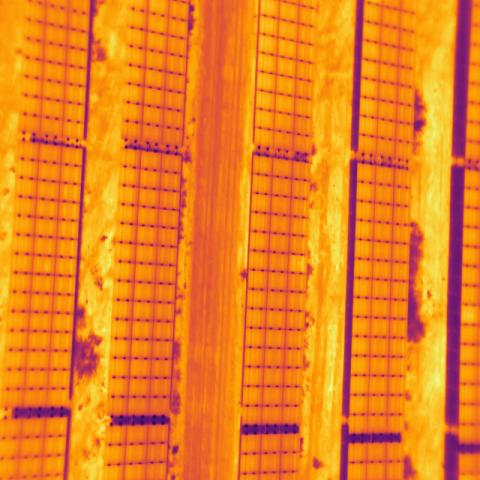fault: (288, 254, 308, 274)
